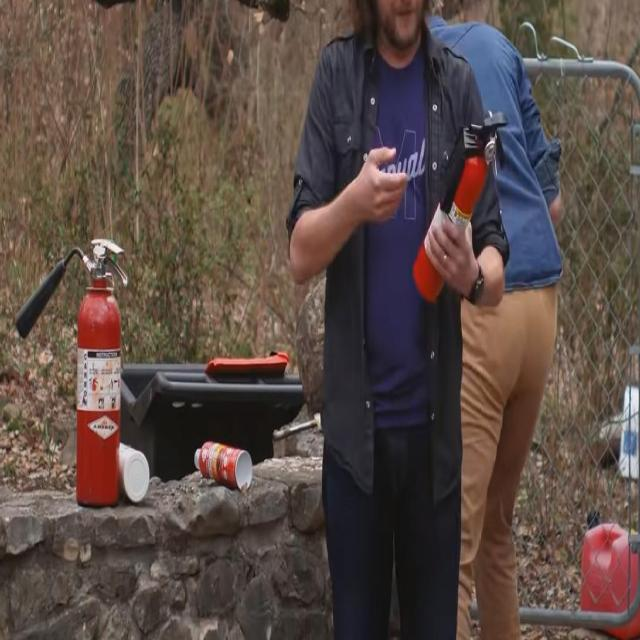fire_extinguisher: (12, 220, 137, 531), (410, 103, 509, 307), (191, 439, 253, 493)
